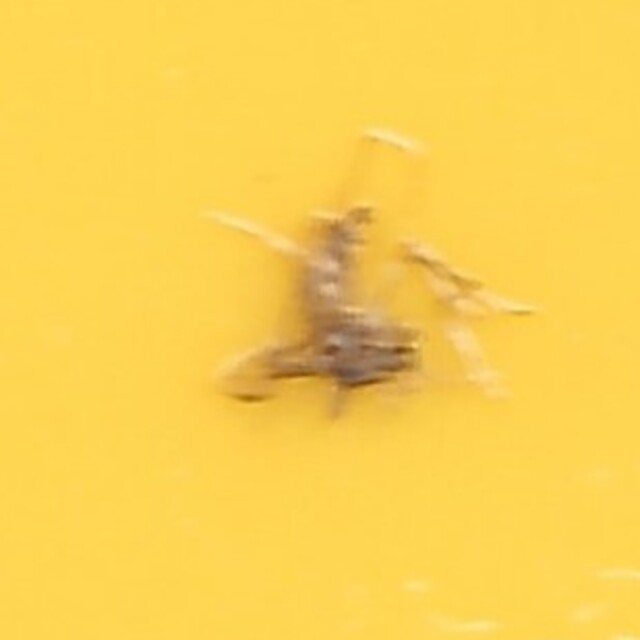Nematocera: (207, 204, 433, 436)
